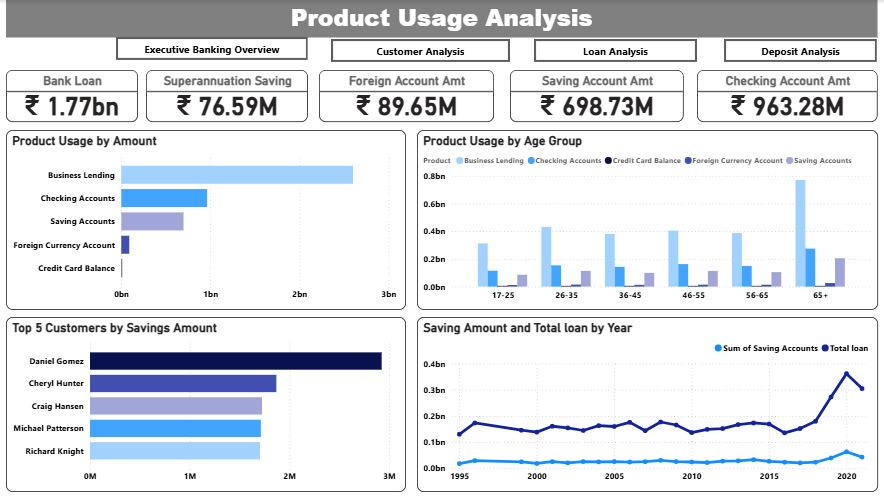

Layout of this report page (visuals, bound fields, positions):
{"tool":"powerbi","page":{"name":"Product Usage Analysis","canvas":[1280,720],"ordinal":4},"visuals":[{"type":"textbox","title":"Product Usage Analysis ","box":[13.4,0,1254.8,53.8],"z":0},{"type":"card","title":"Saving Account Amt","fields":{"Values":["Banking.saving Acc Amt"]},"box":[738.7,100.8,250.3,74.7],"z":0,"group":"g1"},{"type":"card","title":"Checking Account Amt","fields":{"Values":["Banking.Checking Acc Amt"]},"box":[1007.4,100.8,260.4,74.7],"z":1000,"group":"g1"},{"type":"clusteredBarChart","title":" Product Usage by Amount","fields":{"Category":["Product Usage Table.Product"],"Y":["Sum(Product Usage Table.Amount)"]},"box":[13,187.2,576,259.2],"z":1000},{"type":"clusteredBarChart","title":"Top 5  Customers by Savings Amount","fields":{"Category":["Banking.Name"],"Y":["Banking.saving Acc Amt"]},"box":[13,456.5,576,252],"z":2000},{"type":"card","title":"Foreign Account Amt","fields":{"Values":["Banking.Foreign Currency Acc Amt"]},"box":[463.2,100.8,252,74.7],"z":3000,"group":"g1"},{"type":"clusteredColumnChart","title":" Product Usage by Age Group","fields":{"Category":["Banking.Age Groups"],"Y":["Sum(Product Usage Table.Amount)"],"Series":["Product Usage Table.Product"]},"box":[604.8,187.2,663.8,259.2],"z":3000},{"type":"lineChart","title":"Saving Amount and Total loan by Year","fields":{"Category":["Banking.Joined Bank.Variation.Date Hierarchy.Year"],"Y":["Sum(Banking.Saving Accounts)","Banking.Total loan"]},"box":[604.8,456.5,663.8,252],"z":4000},{"type":"actionButton","box":[773.3,56.2,234.7,33.1],"z":5000},{"type":"card","title":"Superannuation Saving","fields":{"Values":["Banking.Superannuation Saving Amt"]},"box":[214.6,100.8,233.5,74.7],"z":5000,"group":"g1"},{"type":"actionButton","box":[1046.9,56.2,220.3,33.1],"z":6000},{"type":"actionButton","box":[481,56.2,257.8,33.1],"z":7000},{"type":"card","title":"Bank Loan","fields":{"Values":["Banking.Bank Loan"]},"box":[13,100.8,189.8,74.7],"z":7000,"group":"g1"},{"type":"actionButton","box":[171.4,53.3,276.5,33.1],"z":8000},{"type":"group","id":"g1","title":"Group 1","box":[13,100.8,1254.2,74.9],"z":9000}]}

Visuals, with their boxes in screenshot pixels (x1, y1, x2, y2), scaled from the page's 1280x720 canvas onto the 884x500 screenshot:
"Product Usage Analysis " textbox: {"left": 9, "top": 0, "right": 876, "bottom": 37}
"Saving Account Amt" card: {"left": 510, "top": 70, "right": 683, "bottom": 122}
"Checking Account Amt" card: {"left": 696, "top": 70, "right": 876, "bottom": 122}
" Product Usage by Amount" clusteredBarChart: {"left": 9, "top": 130, "right": 407, "bottom": 310}
"Top 5  Customers by Savings Amount" clusteredBarChart: {"left": 9, "top": 317, "right": 407, "bottom": 492}
"Foreign Account Amt" card: {"left": 320, "top": 70, "right": 494, "bottom": 122}
" Product Usage by Age Group" clusteredColumnChart: {"left": 418, "top": 130, "right": 876, "bottom": 310}
"Saving Amount and Total loan by Year" lineChart: {"left": 418, "top": 317, "right": 876, "bottom": 492}
actionButton: {"left": 534, "top": 39, "right": 696, "bottom": 62}
"Superannuation Saving" card: {"left": 148, "top": 70, "right": 309, "bottom": 122}
actionButton: {"left": 723, "top": 39, "right": 875, "bottom": 62}
actionButton: {"left": 332, "top": 39, "right": 510, "bottom": 62}
"Bank Loan" card: {"left": 9, "top": 70, "right": 140, "bottom": 122}
actionButton: {"left": 118, "top": 37, "right": 309, "bottom": 60}
"Group 1" group: {"left": 9, "top": 70, "right": 875, "bottom": 122}
